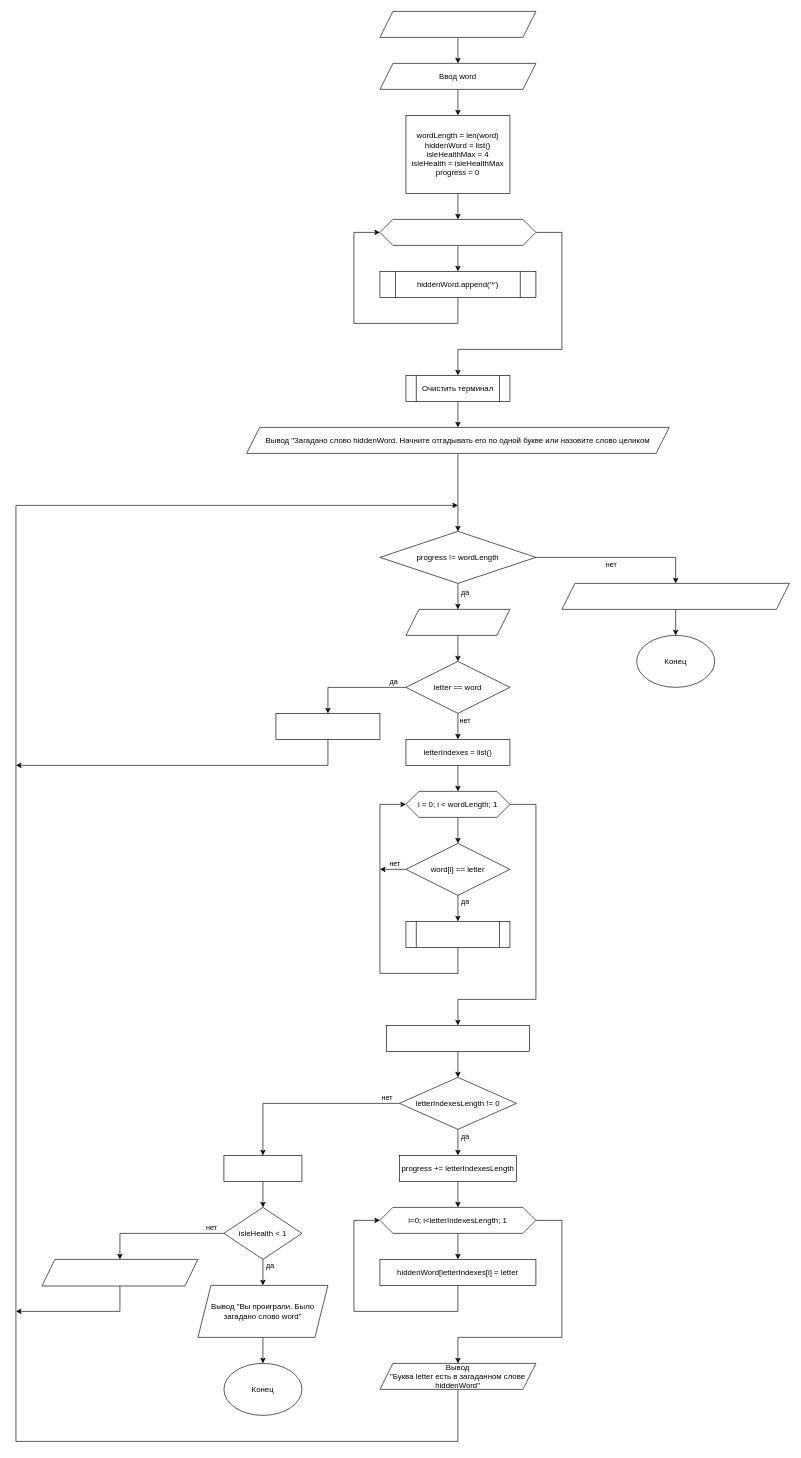
The diagram is 801 pixels wide and 1458 high, and some of its shapes have lost their labels. Here are the shapes that lost their labels. From the top down, the centre of each, then its label:
point (457, 24): Вывод "Добро пожаловать …"
point (457, 232): i = 0; i < wordLength ; 1
point (675, 596): Вывод "Было загадано слово word и вы его отгадали!"
point (457, 622): Ввод letter
point (327, 726): progress = wordLength
point (457, 934): letterIndexes.append(i)
point (457, 1038): letterIndexesLength = len(letterIndexes)
point (262, 1168): isleHealth -= 1
point (119, 1272): Вывод "Такой буквы нет. Здоровье: isleHealth / isleHealthMax"
